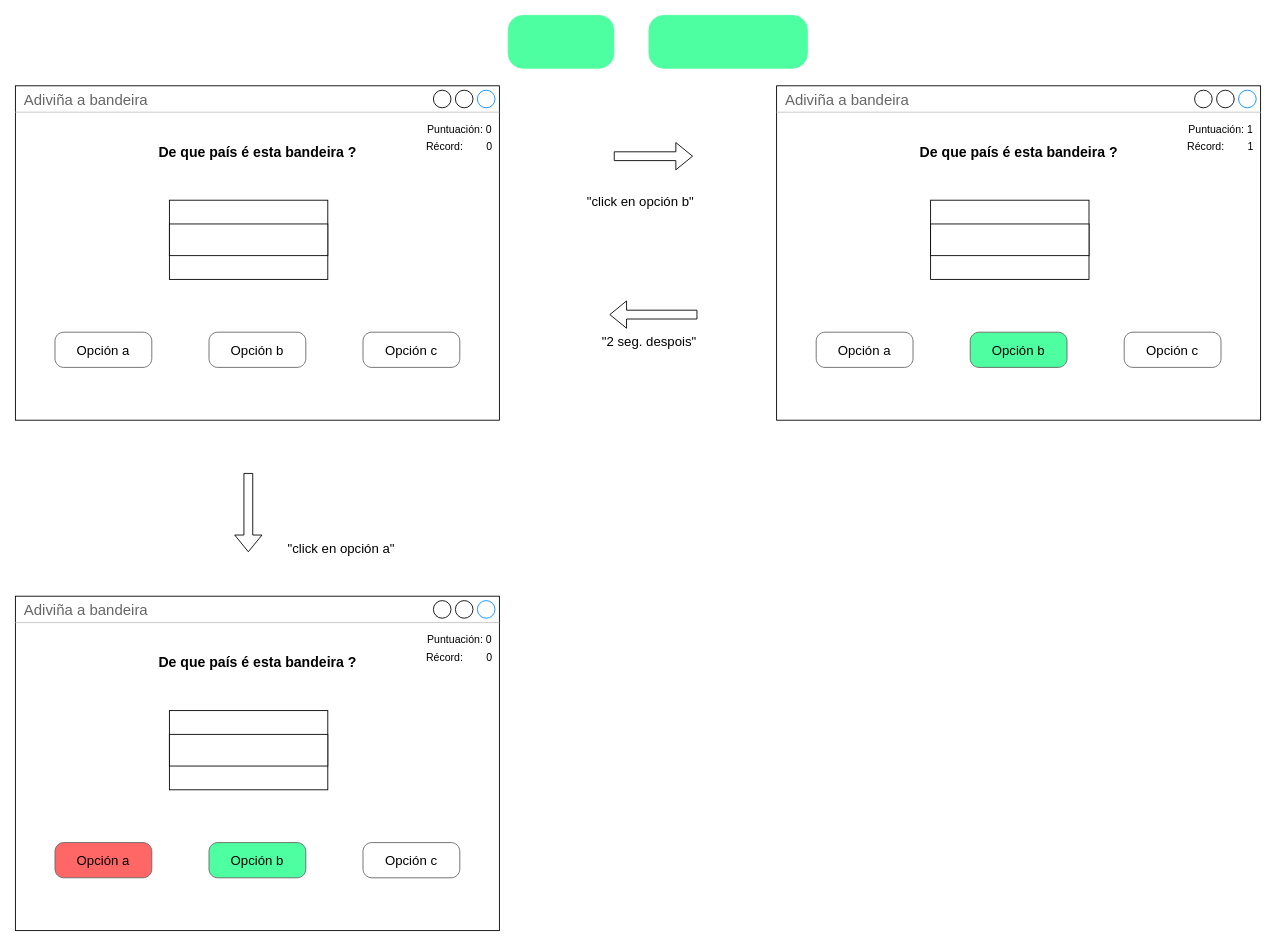
Some shapes in this 1276 by 946 pixel diagram are drawn without their labels. Each missing label, with the centre of its shape:
"if record < puntuacion : record++" goes at pixel 727 41.
"puntuación++" goes at pixel 560 41.
